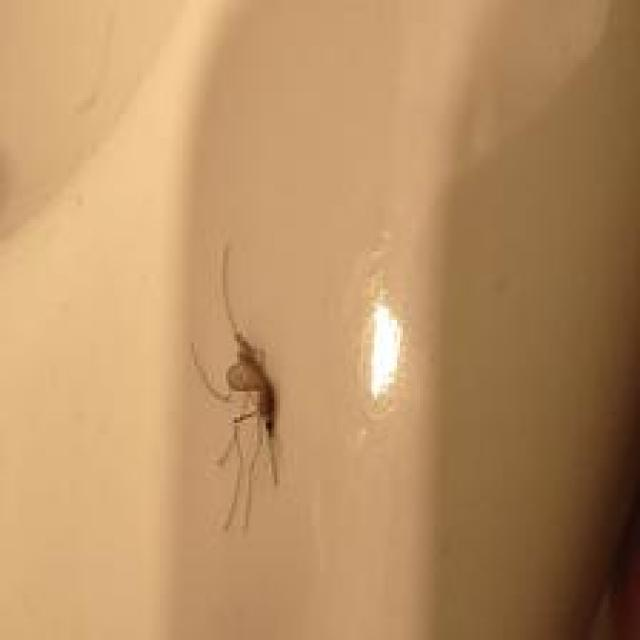Culex: (188, 243, 283, 531)
